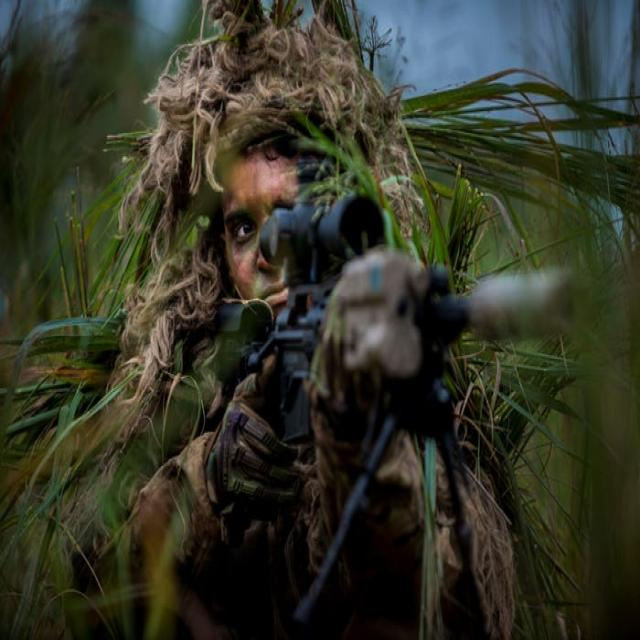Human: (1, 6, 579, 599)
